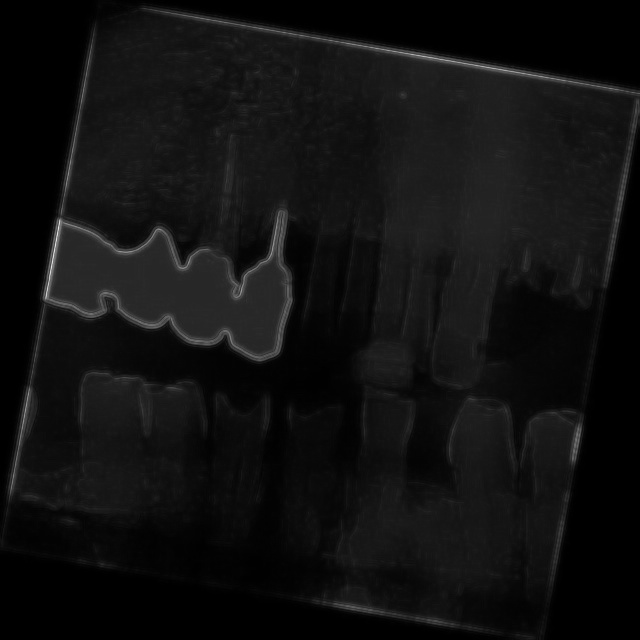Class 0- No endodontic treatment: (150, 102, 280, 360)
Class 2- incomplete endodontic treatment: (217, 118, 351, 386), (491, 210, 608, 334)
